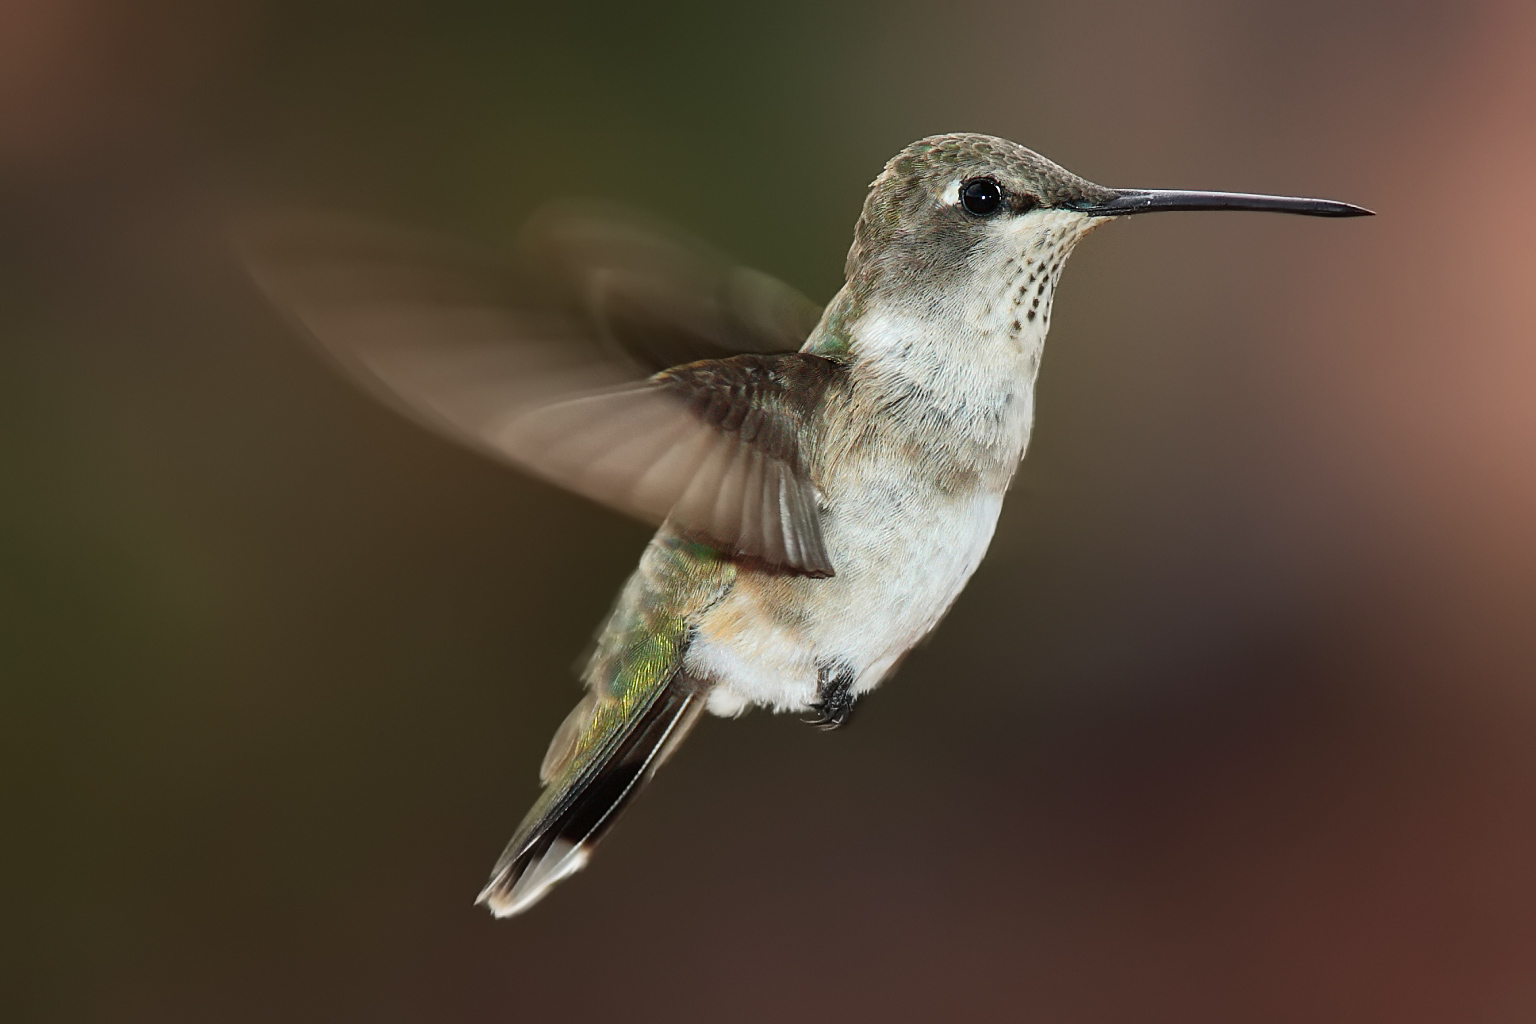archilochus alexandri: (227, 128, 1376, 937)
